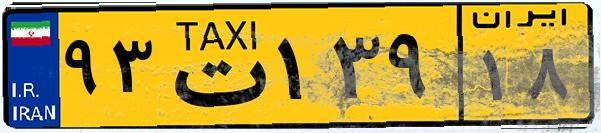1: (270, 28, 330, 110), (475, 38, 525, 113)
3: (330, 28, 385, 110), (110, 28, 158, 98)
8: (525, 38, 570, 115)
9: (385, 28, 445, 110), (57, 26, 110, 100)
ت: (158, 12, 270, 120)
